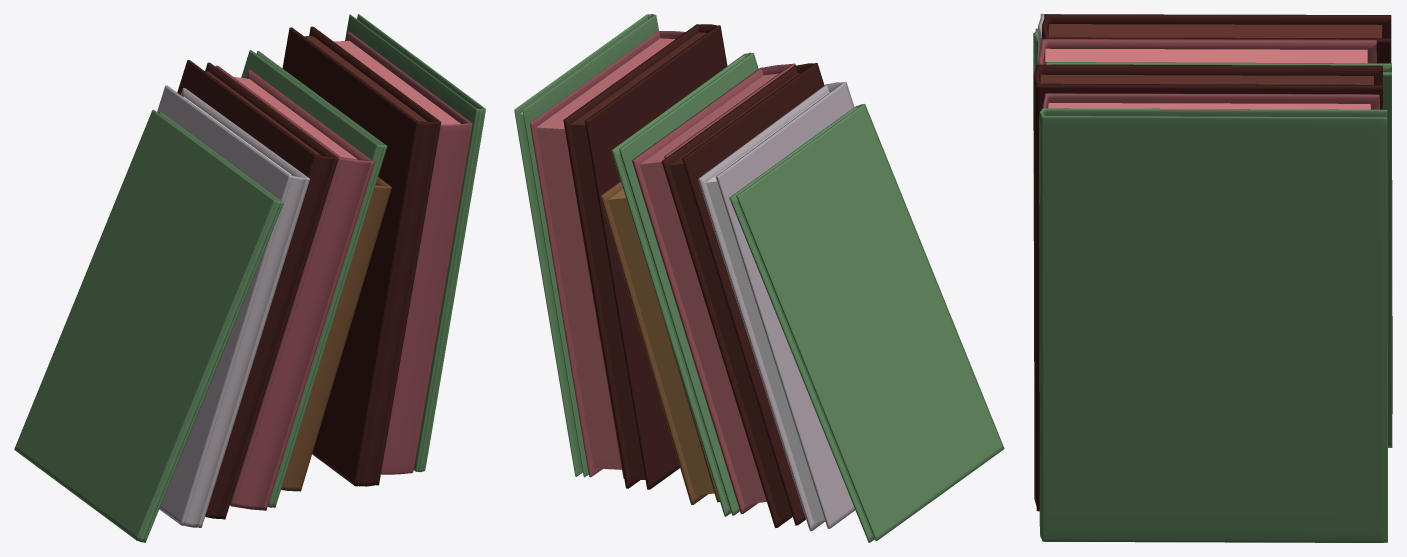
The model's file is libri.fbx.
3 renders of one model, left to right at view 1: azimuth 30°, elevation 25°; view 2: azimuth 150°, elevation 25°; view 3: azimuth 270°, elevation 25°, orthographic. The views are drawn at different scales.
Visible parts, largest first — view 1: libri_2; view 2: libri_2; view 3: libri_2.
Part boxes in pixels (x1,y1,x2,y2): libri_2: (14, 14, 485, 542); libri_2: (514, 14, 1004, 542); libri_2: (1033, 14, 1392, 542).
Bounding box in the file's own units: 25.82 × 24.79 × 17.05.
